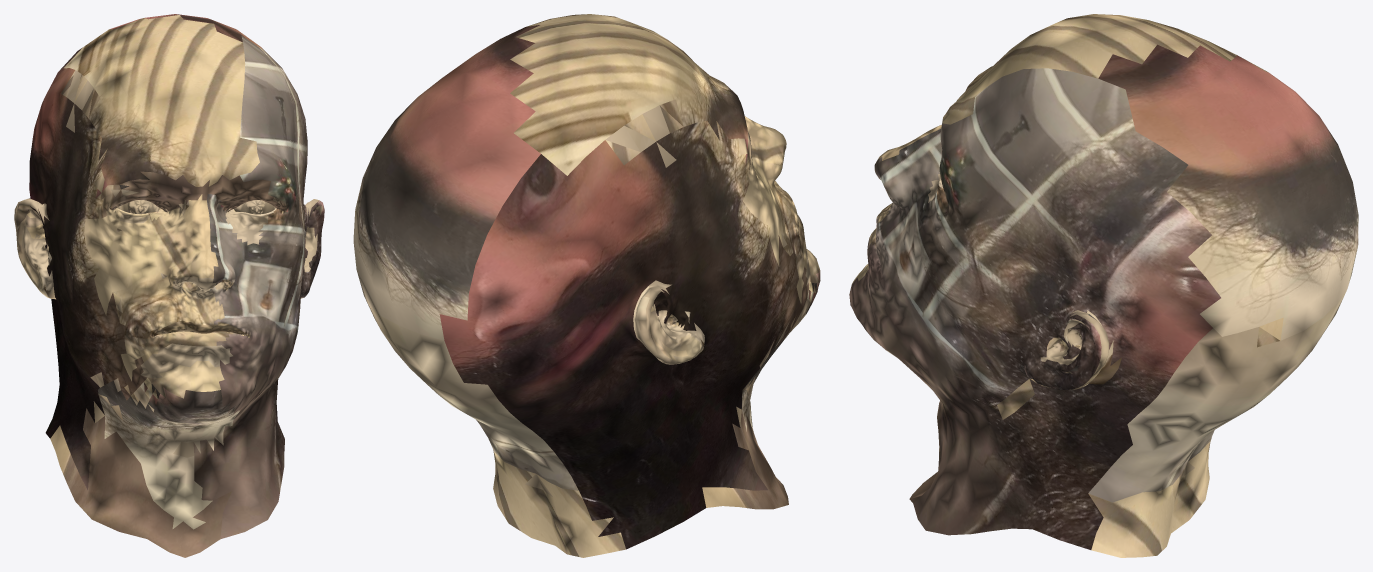
The picture shows the model from 3 angles, left to right: view 1: azimuth 30°, elevation 25°; view 2: azimuth 150°, elevation 25°; view 3: azimuth 270°, elevation 25°; orthographic projection. The views are drawn at different scales.
Parts seen in each view (by area): view 1: man_body_0014_uv_map_man_body_0014_uv_map.001; view 2: man_body_0014_uv_map_man_body_0014_uv_map.001; view 3: man_body_0014_uv_map_man_body_0014_uv_map.001.
Part boxes in pixels (x1,y1,x2,y2): man_body_0014_uv_map_man_body_0014_uv_map.001: (14, 14, 324, 557); man_body_0014_uv_map_man_body_0014_uv_map.001: (353, 14, 820, 557); man_body_0014_uv_map_man_body_0014_uv_map.001: (849, 14, 1358, 557).
Bounding box in the file's own units: 0.1837 × 0.2739 × 0.2462.
